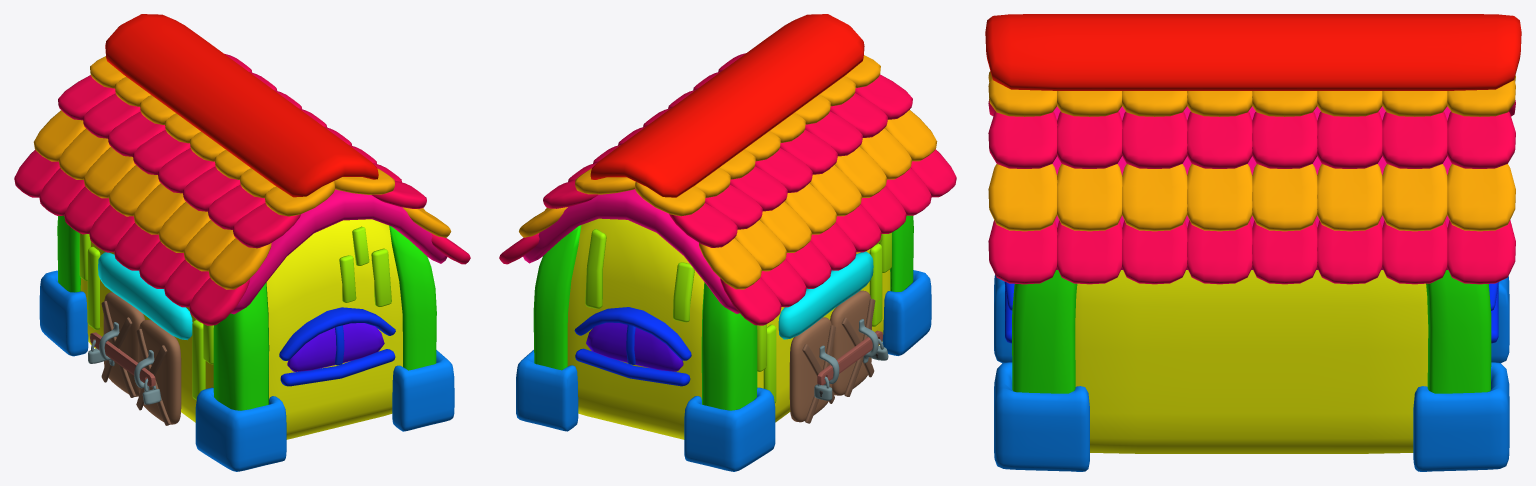
Rendered from extérieur grange avec poutre.fbx.
3 views of the same model, side by side, from view 1: azimuth 30°, elevation 25°; view 2: azimuth 150°, elevation 25°; view 3: azimuth 270°, elevation 25° (orthographic). The views are drawn at different scales.
Visible parts, largest first — view 1: grange, Cube.022, Cube.019, Cube.006; view 2: grange, Cube.019, Cube.022, Cube.006; view 3: grange.
Part boxes in pixels (left/top/right/bottom): grange: left=14, top=14, right=470, bottom=471; Cube.022: left=134, top=319, right=181, bottom=425; Cube.019: left=99, top=292, right=144, bottom=397; Cube.006: left=90, top=332, right=155, bottom=386; grange: left=499, top=14, right=956, bottom=471; Cube.019: left=789, top=317, right=839, bottom=423; Cube.022: left=830, top=290, right=878, bottom=396; Cube.006: left=817, top=330, right=882, bottom=385; grange: left=985, top=14, right=1521, bottom=471.
Size of the model in its own units: 613 by 639 by 815.
